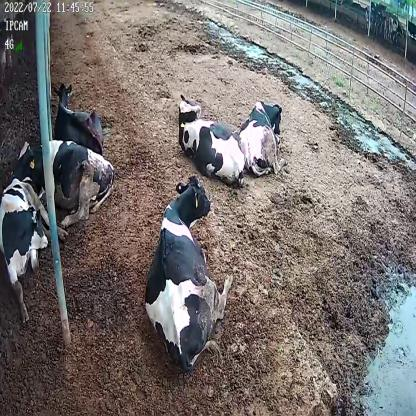cow: (143, 176, 233, 371), (0, 176, 68, 326), (9, 136, 115, 230), (176, 89, 246, 191), (51, 81, 106, 156), (238, 101, 287, 174)
